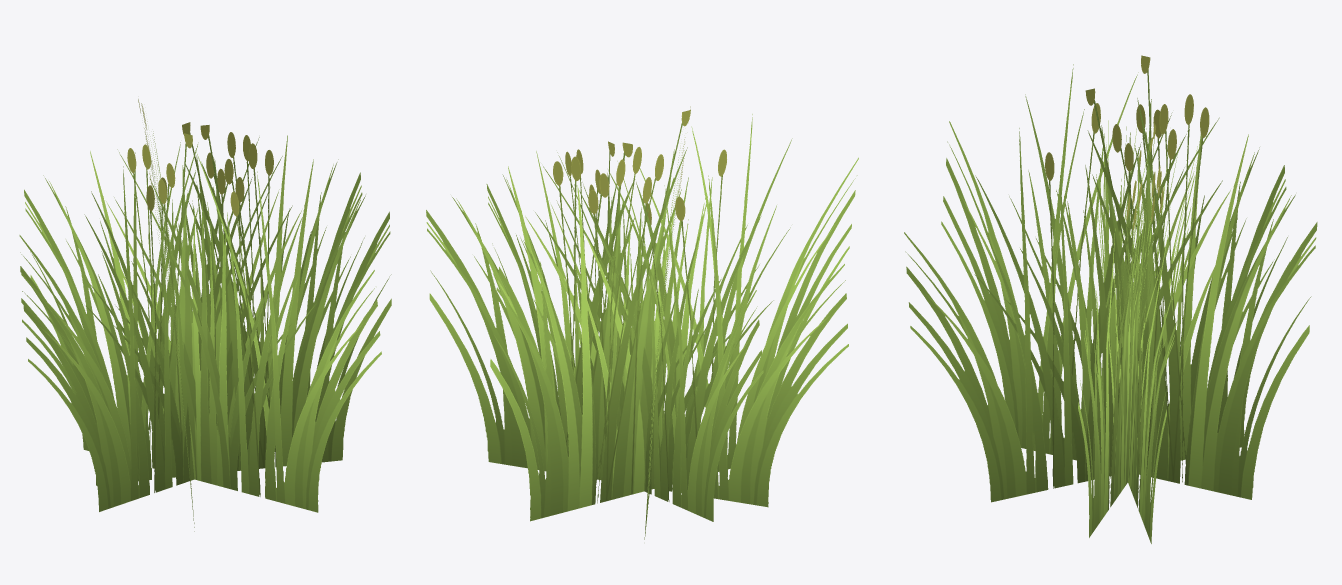
File: tall_grass_1.glb
The picture shows the model from 3 angles, left to right: view 1: azimuth 30°, elevation 25°; view 2: azimuth 150°, elevation 25°; view 3: azimuth 270°, elevation 25°; orthographic projection. The views are drawn at different scales.
Parts seen in each view (by area): view 1: tall_grass_1; view 2: tall_grass_1; view 3: tall_grass_1.
Boxes of the visible parts, left/top/right/bottom form: tall_grass_1: left=19, top=99, right=391, bottom=531; tall_grass_1: left=426, top=106, right=858, bottom=539; tall_grass_1: left=904, top=55, right=1317, bottom=543.
Size of the model in its own units: 0.9375 by 0.9163 by 0.9052.
1 material, 1 textured.
